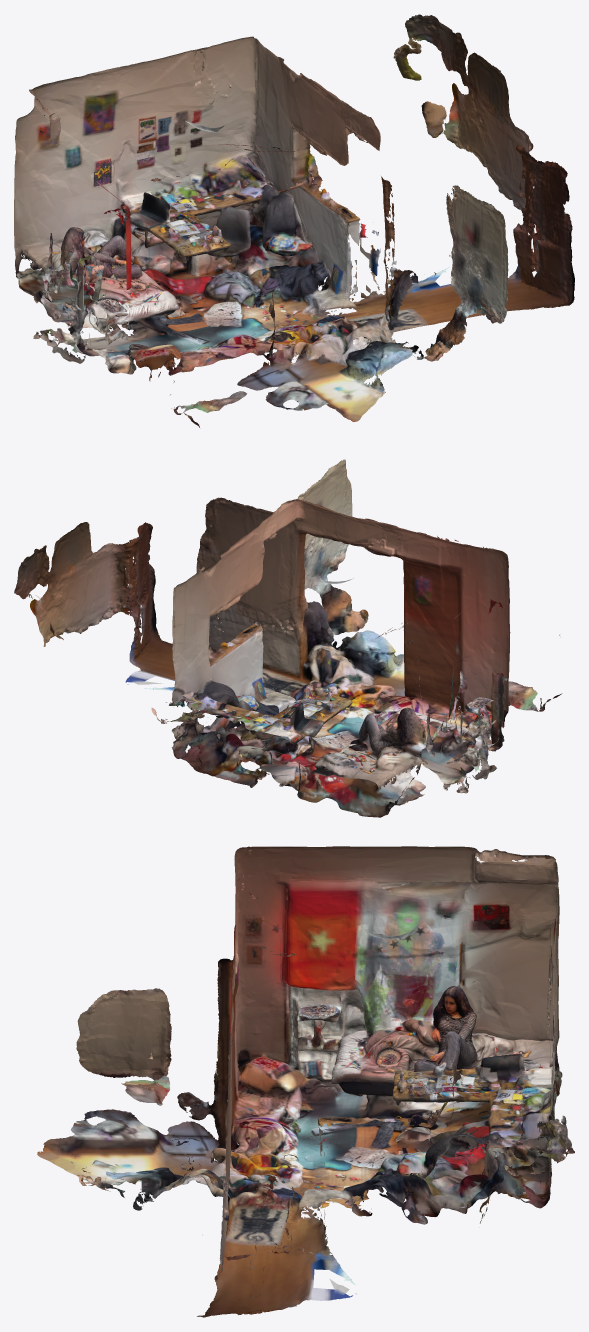
File: PARDIS WEB.glb
The picture shows the model from 3 angles, top to bottom: view 1: azimuth 30°, elevation 25°; view 2: azimuth 150°, elevation 25°; view 3: azimuth 270°, elevation 25°; orthographic projection. The views are drawn at different scales.
Parts seen in each view (by area): view 1: mesh; view 2: mesh; view 3: mesh.
Part boxes in pixels (<box>): mesh: <box>14,14,574,427</box>; mesh: <box>14,459,562,817</box>; mesh: <box>37,846,574,1317</box>.
Bounding box in the file's own units: 5.83 × 2.67 × 5.27.
1 material, 1 textured.
